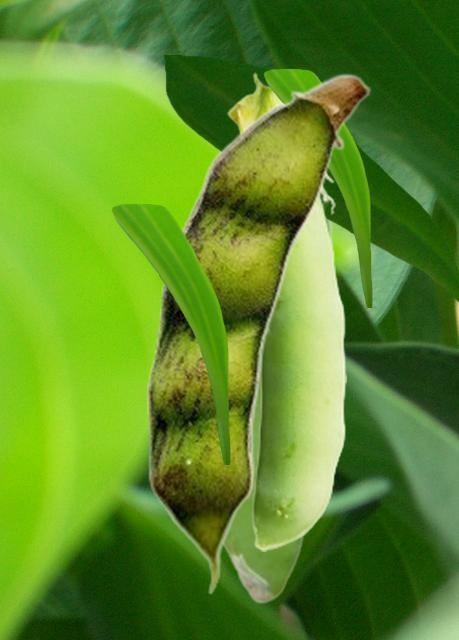pea: (147, 72, 370, 594), (227, 72, 345, 550), (223, 220, 333, 603)
